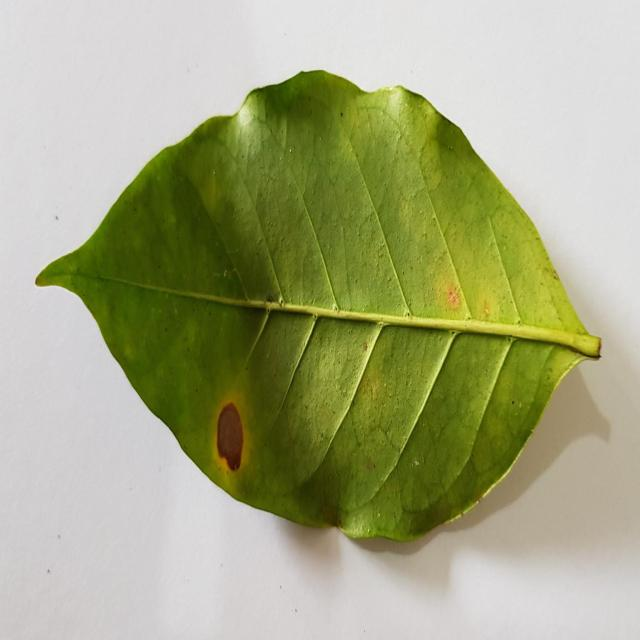Enfermedad-Mancha-de-hierro: (33, 70, 603, 554)
